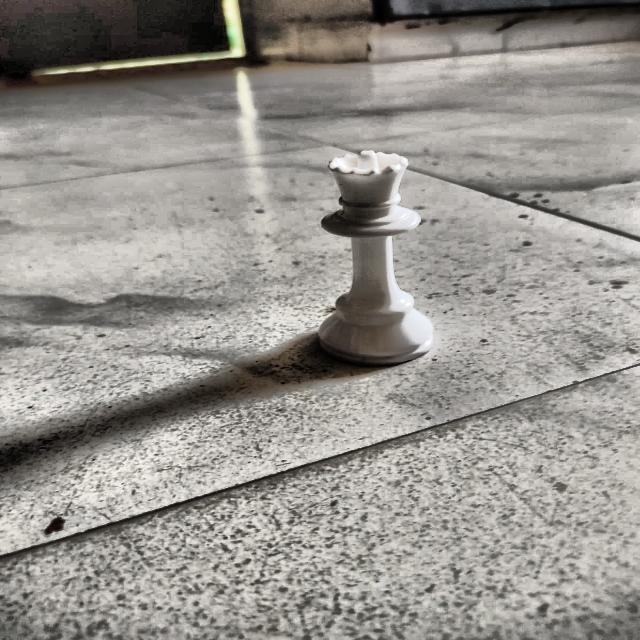WhiteQueen: (317, 149, 436, 370)
